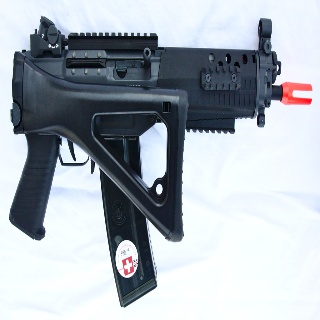rifle: (6, 11, 315, 313)
